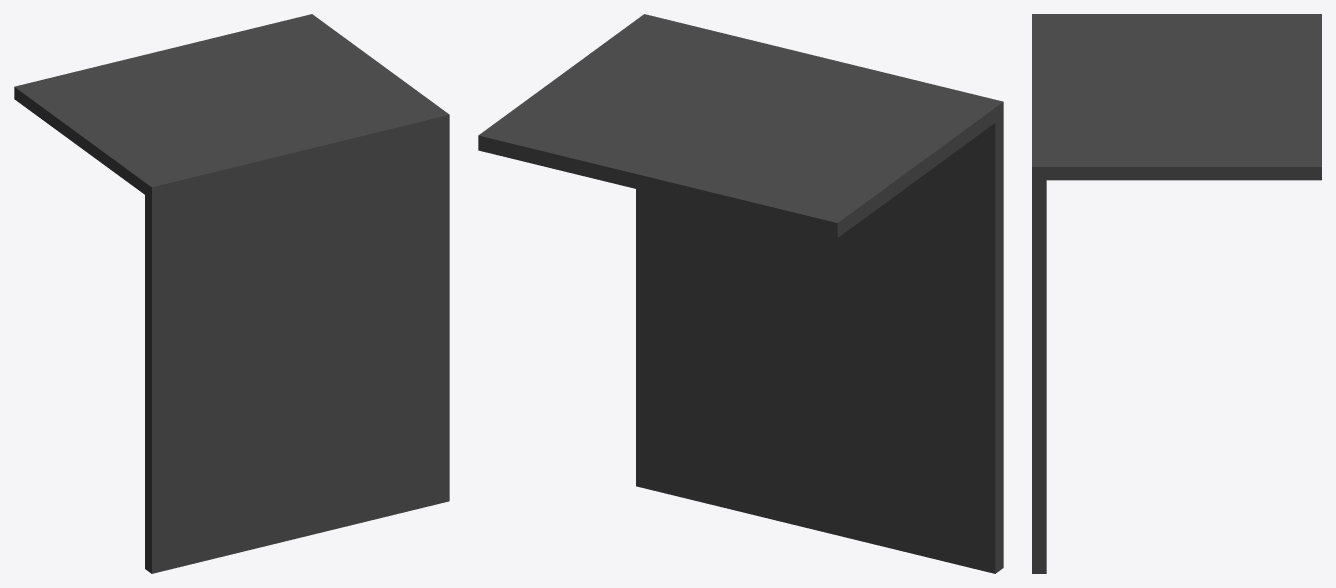
File: MBS_City_WaterwayStraight.fbx
The picture shows the model from 3 angles, left to right: view 1: azimuth 30°, elevation 25°; view 2: azimuth 150°, elevation 25°; view 3: azimuth 270°, elevation 25°; orthographic projection. The views are drawn at different scales.
Visible parts, largest first — view 1: Cube.840; view 2: Cube.840; view 3: Cube.840.
Boxes of the visible parts, x1=… form: Cube.840: x1=14, y1=14, x2=449, y2=573; Cube.840: x1=478, y1=14, x2=1003, y2=573; Cube.840: x1=1032, y1=14, x2=1321, y2=573.
Bounding box in the file's own units: 1000 × 1240 × 800.
